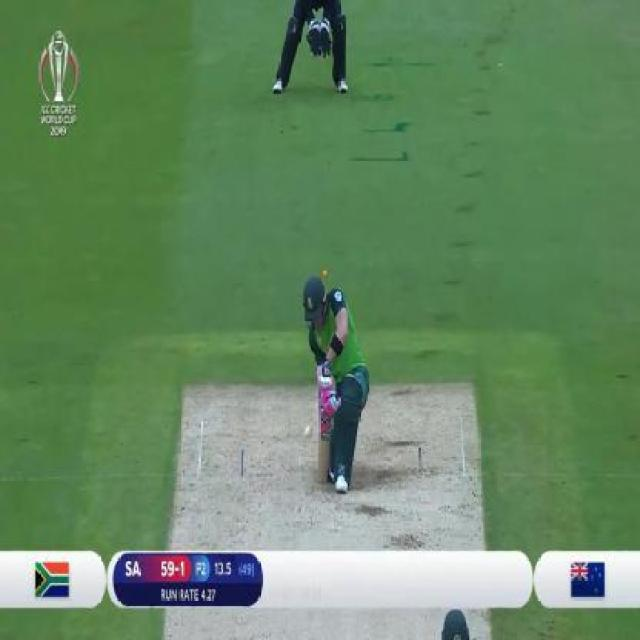Cricket ball: (304, 424, 315, 440)
